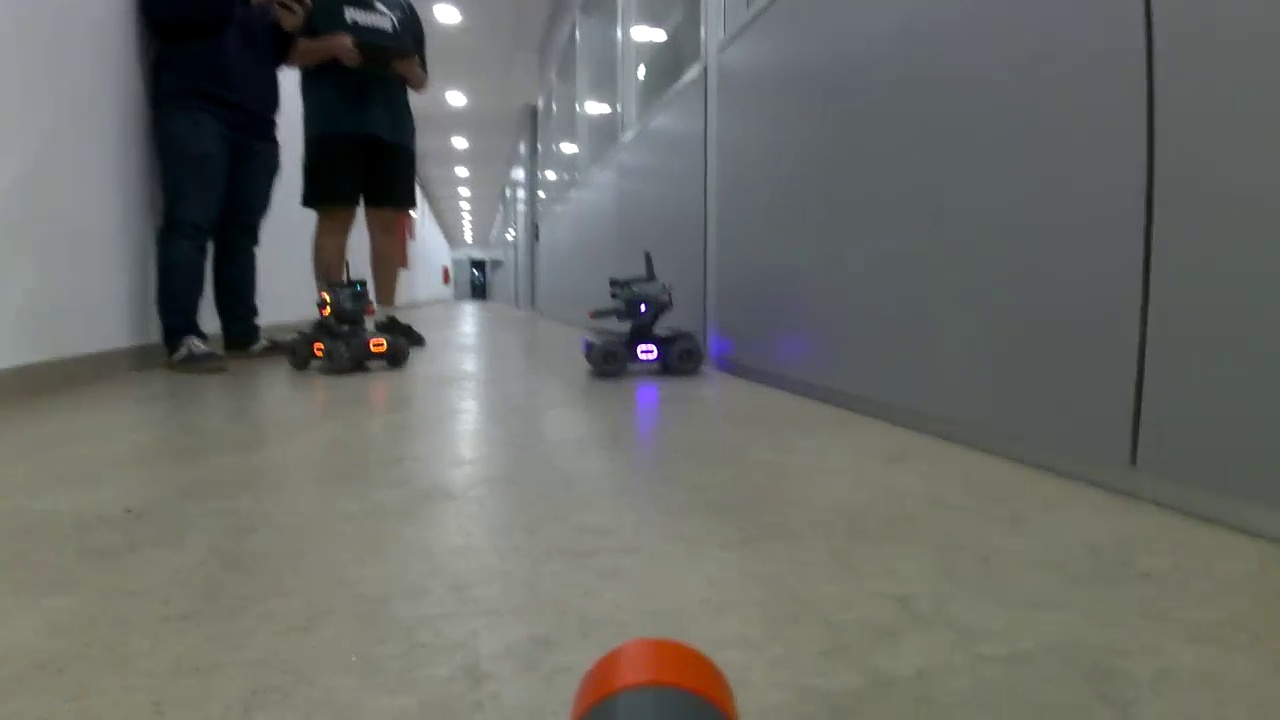robot: (583, 272, 702, 376), (286, 278, 411, 374)
